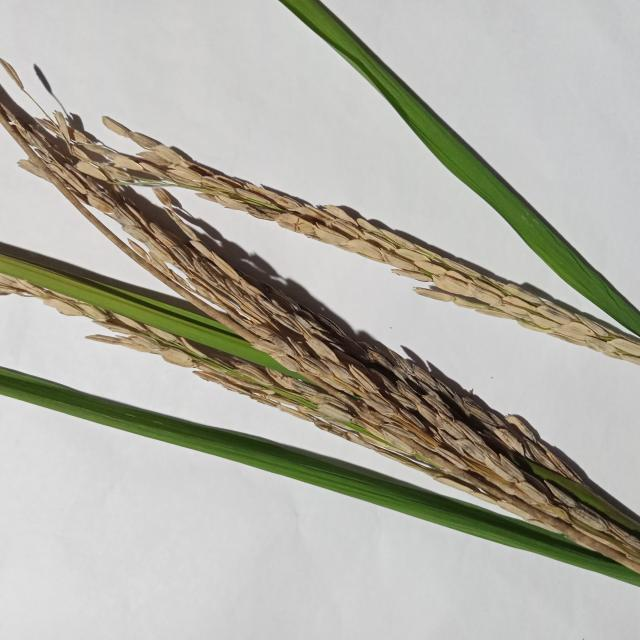Neck_Blast: (0, 74, 640, 584), (108, 120, 640, 370)
